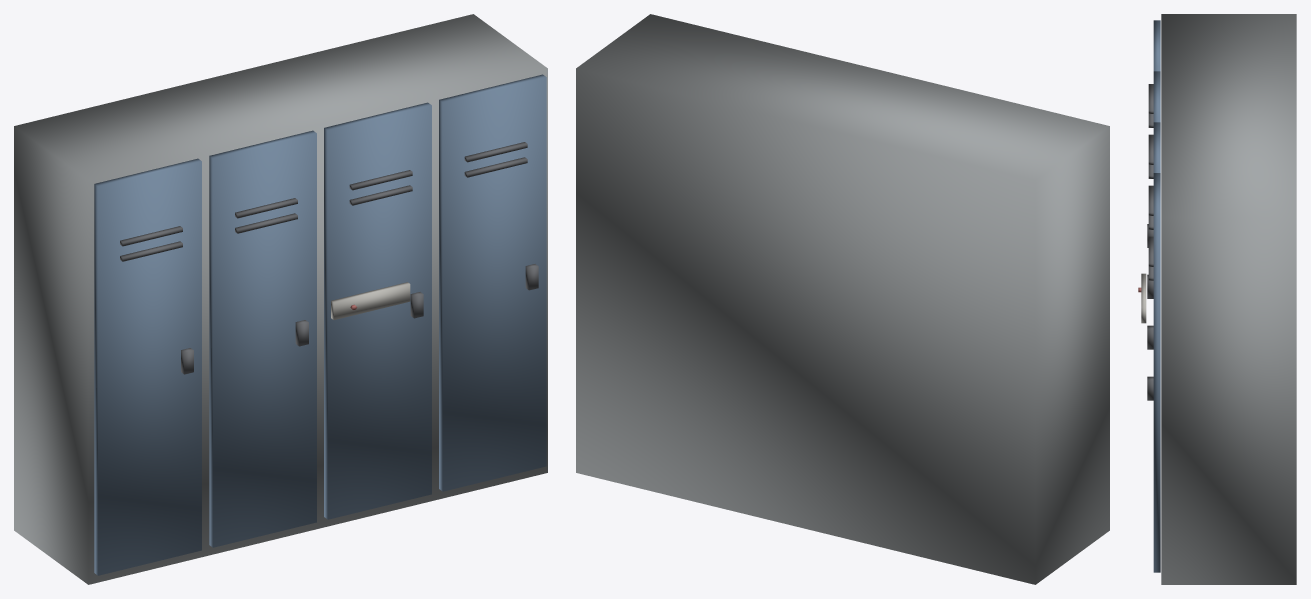
The model's file is property_locker_bank__squat.glb.
3 views of the same model, side by side, from view 1: azimuth 30°, elevation 25°; view 2: azimuth 150°, elevation 25°; view 3: azimuth 270°, elevation 25° (orthographic). The views are drawn at different scales.
Visible parts, largest first — view 1: world; view 2: world; view 3: world.
Part boxes in pixels (box(x1,y1,x2,y2)): world: box(14, 14, 547, 584); world: box(576, 14, 1109, 584); world: box(1138, 14, 1296, 584).
Bounding box in the file's own units: 1.85 × 1.55 × 0.6059.
